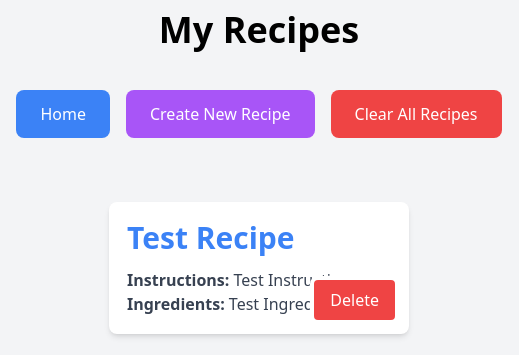
MyRecipesPage › deletes a recipe
expect the heading "Test Recipe" is shown: met, box top-left (127, 217), bottom-right (295, 258)
Step 1. Click the button "Delete" → (355, 300), box top-left (310, 276), bottom-right (399, 324)
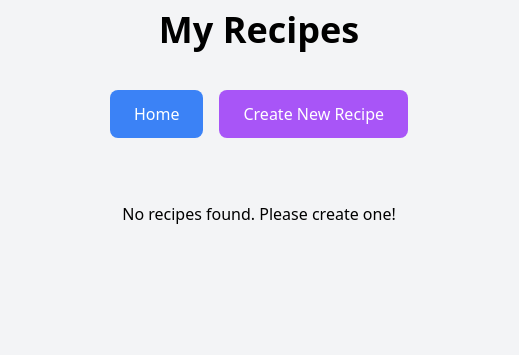
expect the link "Test Recipe" is gone: met
